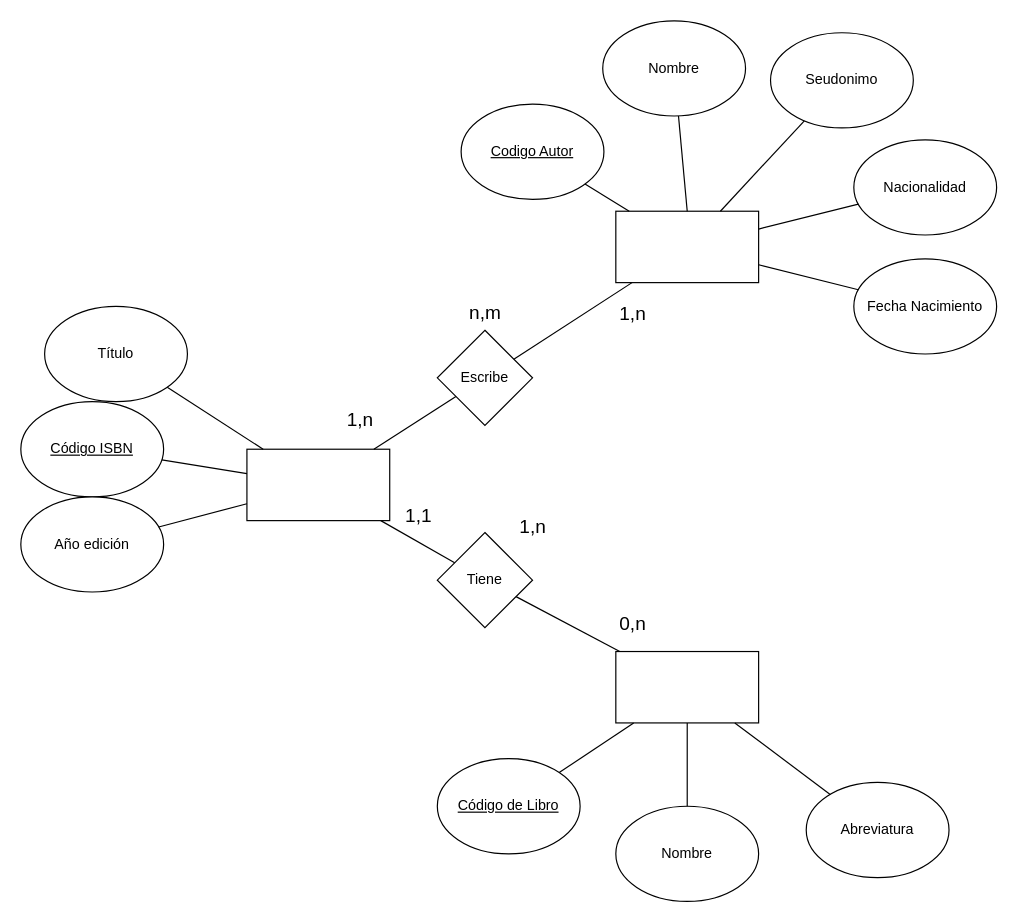
The diagram is 1017 pixels wide and 922 high, and some of its shapes have lost their labels. Here are the shapes that lost their labels. From the top down, the centre of each, then its label:
(x=687, y=246): Autor
(x=318, y=484): Libro
(x=687, y=686): Tema
